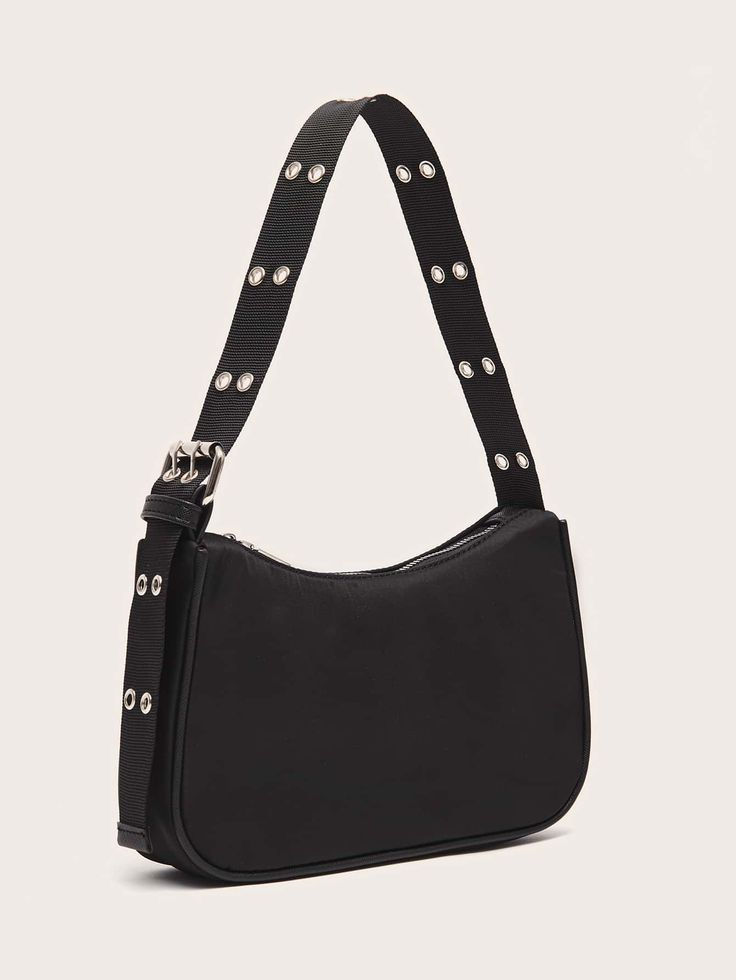nylon: (117, 502, 591, 882)
